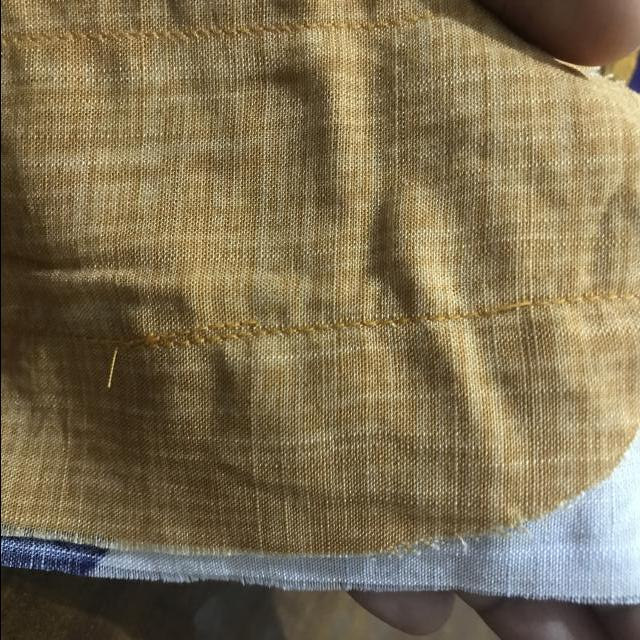Skip: (474, 273, 543, 332)
